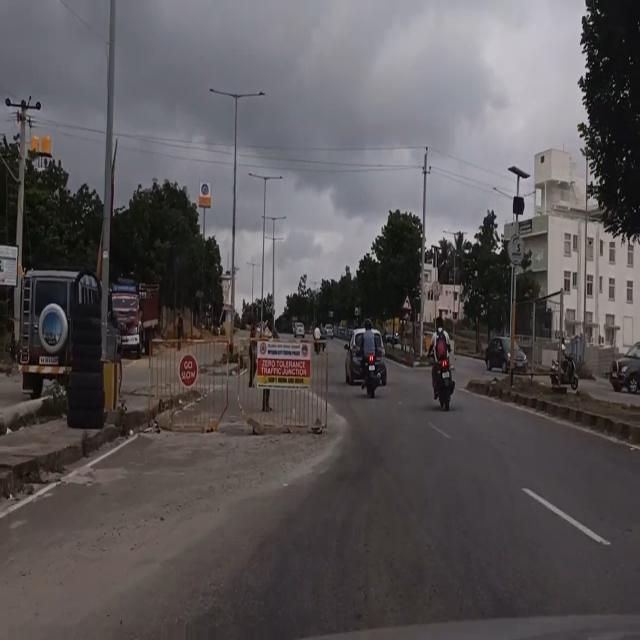bien_cam: (401, 294, 412, 312)
